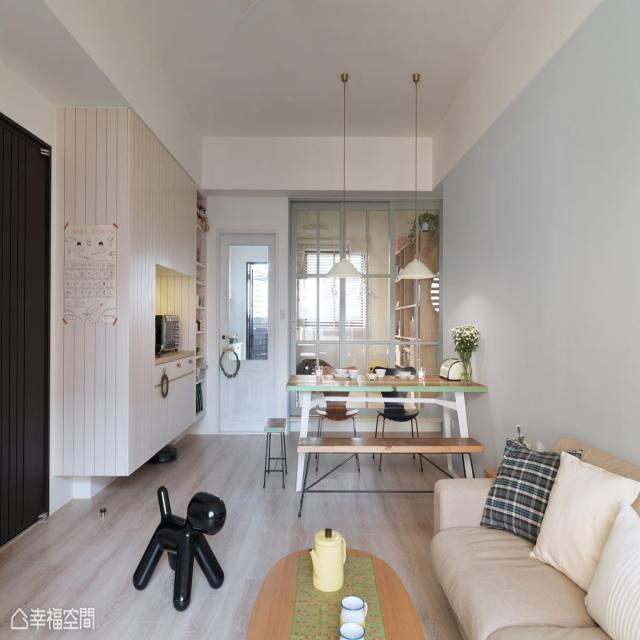table: (258, 357, 484, 515)
